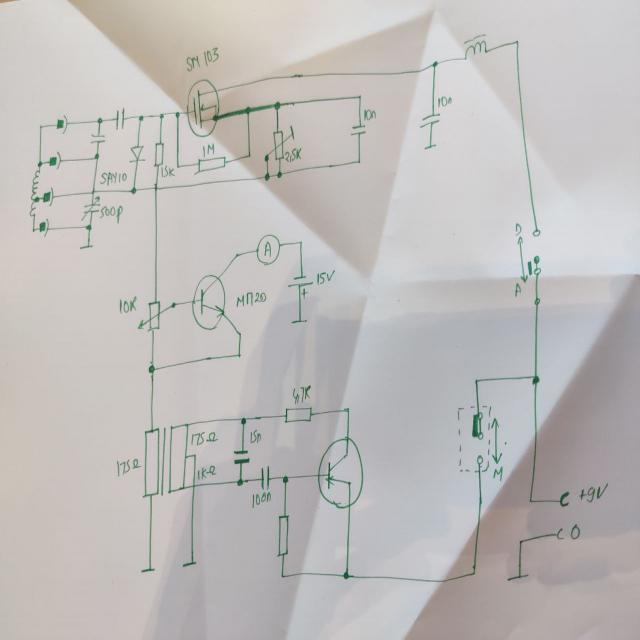capacitor: (80, 195, 100, 221), (418, 111, 441, 129), (232, 447, 250, 465), (259, 464, 271, 489), (114, 106, 126, 130), (349, 122, 367, 136), (88, 131, 105, 144)
crossover: (152, 182, 158, 191), (90, 187, 96, 196), (191, 482, 197, 490)
diode: (128, 144, 146, 162)
ground: (505, 572, 529, 582), (423, 140, 437, 152), (290, 318, 308, 326), (140, 566, 156, 574), (181, 559, 197, 567), (78, 243, 92, 250)
inductor: (462, 32, 488, 61), (29, 168, 41, 200), (28, 200, 36, 217)
junction: (530, 373, 540, 386), (147, 362, 155, 375), (244, 104, 252, 116), (235, 476, 244, 486), (272, 99, 280, 110), (280, 473, 288, 484), (342, 569, 350, 580), (512, 36, 520, 47), (533, 295, 541, 306), (263, 171, 271, 181), (95, 115, 103, 125), (129, 185, 137, 195), (239, 416, 247, 426), (136, 112, 144, 122), (173, 110, 181, 120), (516, 536, 524, 545), (278, 571, 286, 580), (431, 59, 438, 69), (469, 567, 476, 577), (92, 152, 100, 160), (158, 111, 165, 120), (236, 328, 243, 337), (33, 194, 40, 203), (344, 404, 350, 414), (276, 169, 282, 178), (236, 350, 242, 359), (30, 225, 36, 234), (246, 150, 252, 158), (356, 156, 362, 164), (37, 122, 43, 130), (473, 376, 479, 384), (356, 92, 362, 100), (527, 496, 533, 504), (37, 158, 43, 166), (175, 162, 181, 170), (233, 250, 239, 258), (297, 238, 303, 245), (85, 223, 91, 230), (193, 452, 197, 458)
resistor: (136, 298, 176, 332), (263, 124, 295, 162), (193, 155, 227, 175), (282, 404, 312, 426), (276, 512, 290, 556), (152, 140, 165, 168)
source: (286, 274, 314, 298)
switch: (456, 401, 501, 474), (514, 223, 544, 287)
terminal: (558, 488, 570, 508), (554, 526, 564, 540)
text: (184, 45, 220, 73), (578, 482, 608, 503), (235, 289, 267, 307), (115, 457, 142, 476), (99, 203, 122, 223), (189, 429, 217, 445), (99, 169, 127, 184), (291, 384, 311, 403), (250, 490, 272, 507), (118, 295, 137, 314), (196, 464, 216, 480), (316, 269, 336, 284), (283, 146, 301, 162), (200, 140, 216, 156), (436, 94, 452, 109), (568, 522, 581, 540), (249, 428, 261, 445), (363, 107, 377, 120), (160, 164, 173, 177), (492, 467, 504, 481), (514, 281, 522, 297), (514, 220, 522, 236)
transformer: (142, 422, 188, 498)
transistor: (316, 435, 365, 510), (186, 78, 220, 138), (191, 274, 225, 331)
